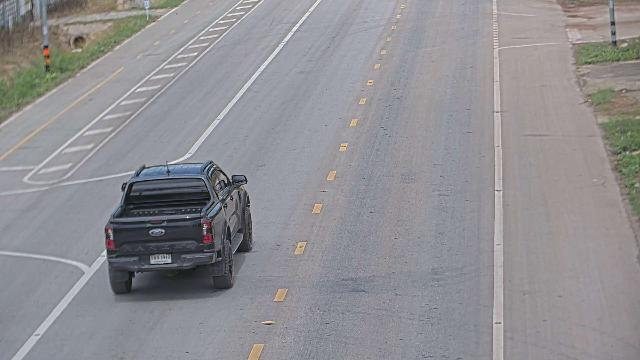pickup-truck: (103, 159, 253, 294)
